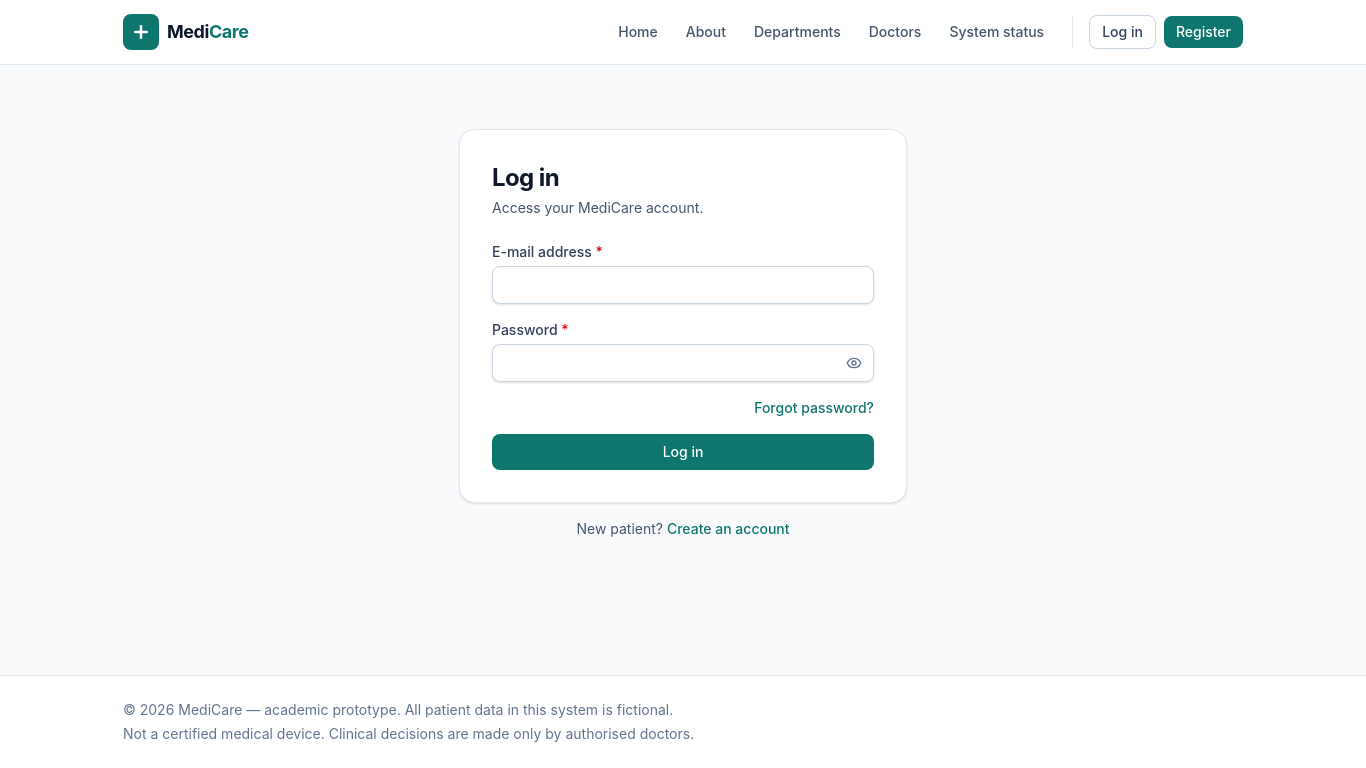
Test: Login page › validates required fields before calling the API
This screenshot has width=1366, height=768.
Click the button "Log in".
click(683, 452)  # box [492,434,874,470]
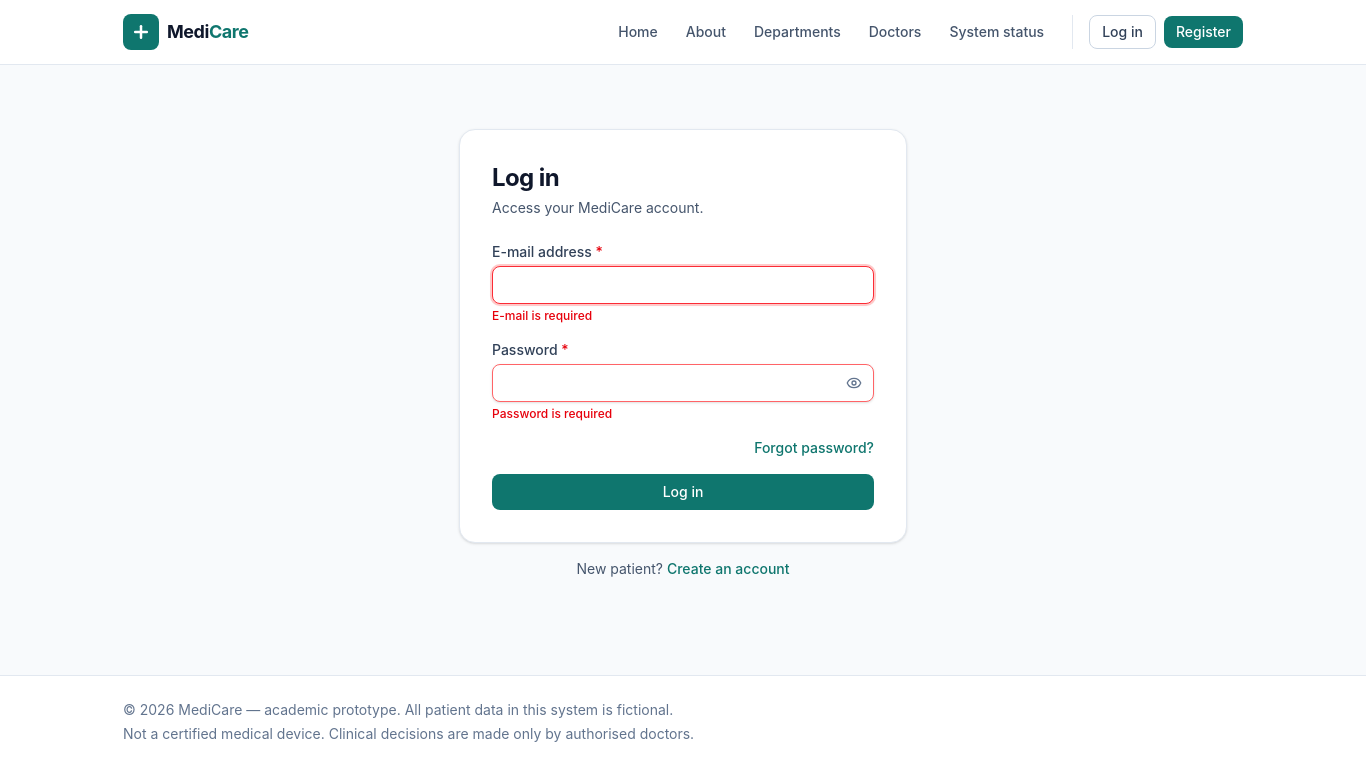
expect the text "E-mail is required" is shown: met, box [492,308,592,323]
expect the text "Password is required" is shown: met, box [492,406,612,421]
